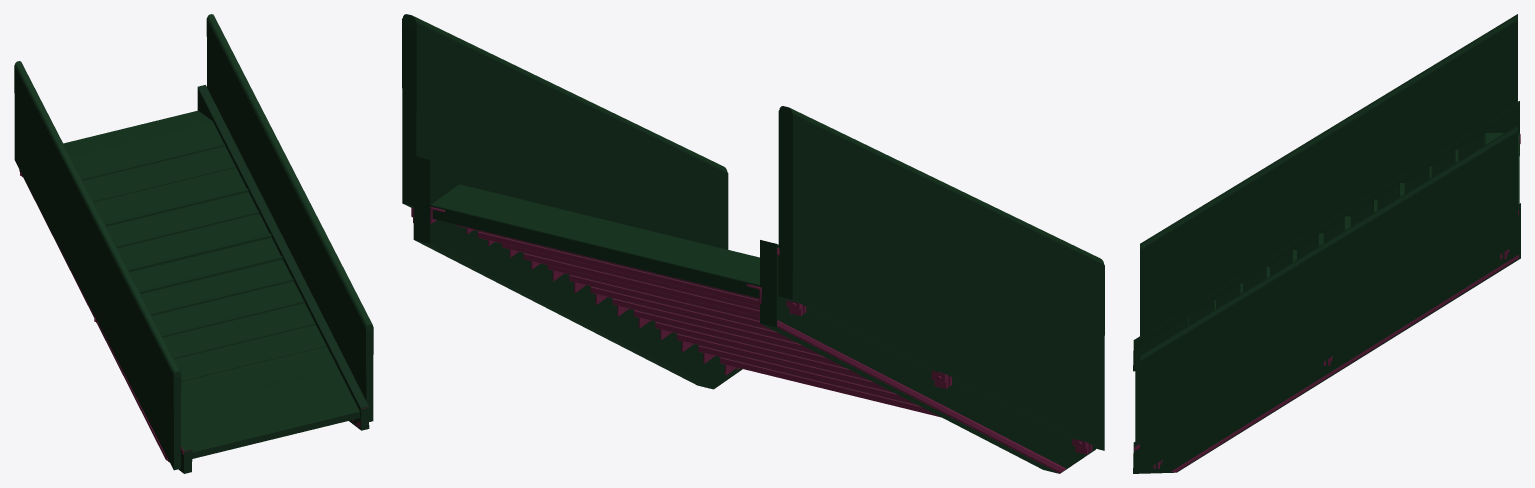
Rendered from StudioStairs_02_Mesh.fbx.
3 views of the same model, side by side, from view 1: azimuth 30°, elevation 25°; view 2: azimuth 150°, elevation 25°; view 3: azimuth 270°, elevation 25° (orthographic). The views are drawn at different scales.
Visible parts, largest first — view 1: studio_stairs_02_Col, studio_stairs_02_LOD0; view 2: studio_stairs_02_Col, studio_stairs_02_LOD0; view 3: studio_stairs_02_Col, studio_stairs_02_LOD0.
Part boxes in pixels (left/top/right/bottom): studio_stairs_02_Col: left=14, top=14, right=373, bottom=473; studio_stairs_02_LOD0: left=15, top=14, right=372, bottom=461; studio_stairs_02_Col: left=402, top=14, right=1104, bottom=473; studio_stairs_02_LOD0: left=402, top=14, right=1103, bottom=473; studio_stairs_02_Col: left=1133, top=14, right=1520, bottom=473; studio_stairs_02_LOD0: left=1134, top=14, right=1520, bottom=472.
Size of what is drawn, in the model's own units: 2.67 by 3.79 by 3.77.
